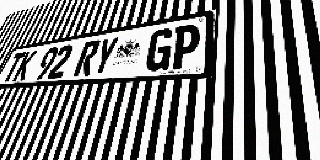2: (47, 44, 75, 79)
9: (33, 46, 60, 80)
G: (144, 27, 175, 72)
K: (12, 50, 38, 81)
P: (169, 23, 201, 70)
R: (73, 39, 101, 77)
T: (1, 52, 26, 82)
Y: (90, 36, 120, 76)
